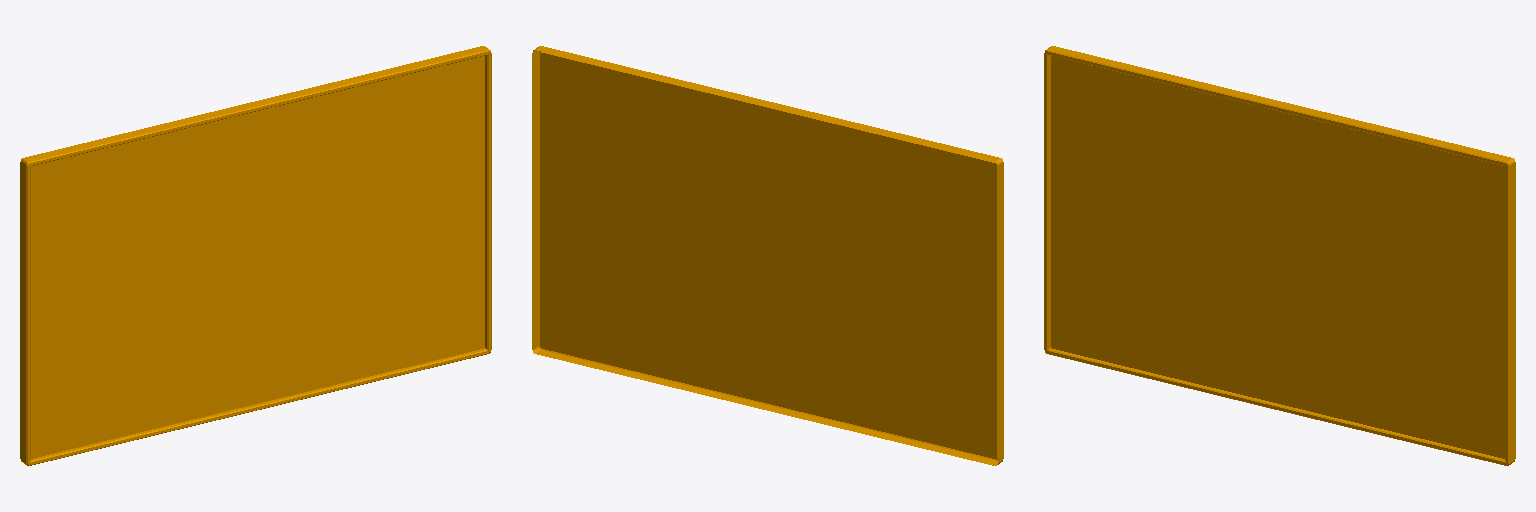
URDF robot description (picture):
<?xml version="1.0" ?>
<robot name="picture" version="1.0">
  <link name="base_link">
    <inertial>
      <origin rpy="0.0 0.0 0.0" xyz="0.0 0.0 0.0"/>
      <mass value="26.17023242680741"/>
      <inertia ixx="0.001" ixy="0.0" ixz="0.0" iyy="0.001" iyz="0.0" izz="0.001"/>
    </inertial>
    <visual name="picture___1">
      <origin rpy="0.0 0.0 0.0" xyz="0.0 -0.0 0.0"/>
      <geometry>
        <mesh filename="shape/visual/picture_m1_vm.obj"/>
      </geometry>
    </visual>
    <visual name="picture___2">
      <origin rpy="0.0 0.0 0.0" xyz="0.0 -0.0 0.0"/>
      <geometry>
        <mesh filename="shape/visual/picture_m2_vm.obj"/>
      </geometry>
    </visual>
    <collision>
      <origin rpy="0.0 0.0 0.0" xyz="0.0 -0.0 0.0"/>
      <geometry>
        <mesh filename="shape/collision/picture_cm.obj"/>
      </geometry>
    </collision>
  </link>
</robot>

--- Render facts (derived) ---
3 views of the same robot in one strip: view 1: azimuth 30°, elevation 25°; view 2: azimuth 150°, elevation 25°; view 3: azimuth 330°, elevation 25° (orthographic).
Robot: picture — 1 links, 0 joints (none); root link base_link; default pose: every joint at zero.
Links seen in each view (by area): view 1: base_link; view 2: base_link; view 3: base_link.
Boxes of the visible links, bbox=[...] form: base_link: bbox=[20, 46, 491, 465]; base_link: bbox=[532, 46, 1003, 465]; base_link: bbox=[1044, 46, 1515, 465].
Bounding box of the posed robot: 2.12 × 0.0493 × 1.32 m (x, y, z).
2 mesh visuals loaded from 2 distinct referenced files (2 OBJ).